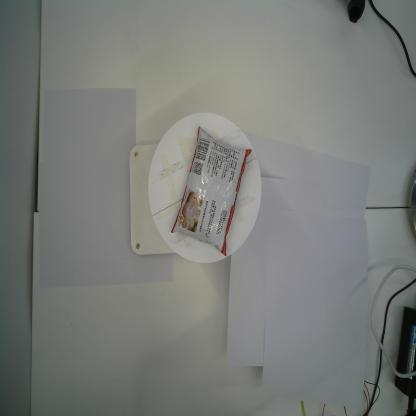Seasoner: (170, 123, 253, 258)
